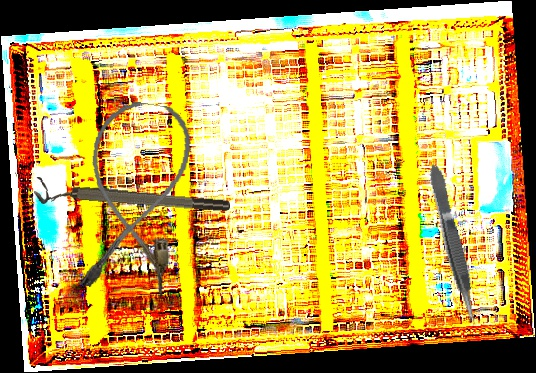Cannula: (72, 96, 196, 299)
Fixation Ring: (33, 176, 231, 224)
Tissue Forceps: (426, 161, 482, 328)
